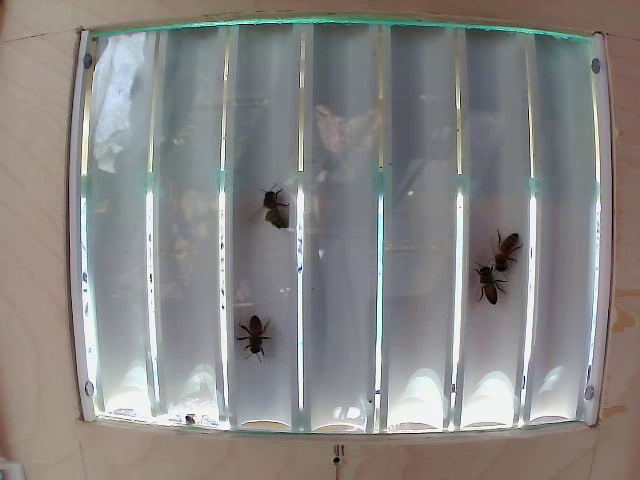bee: (467, 246, 505, 329), (488, 217, 531, 282), (256, 173, 290, 249), (240, 319, 277, 357)
